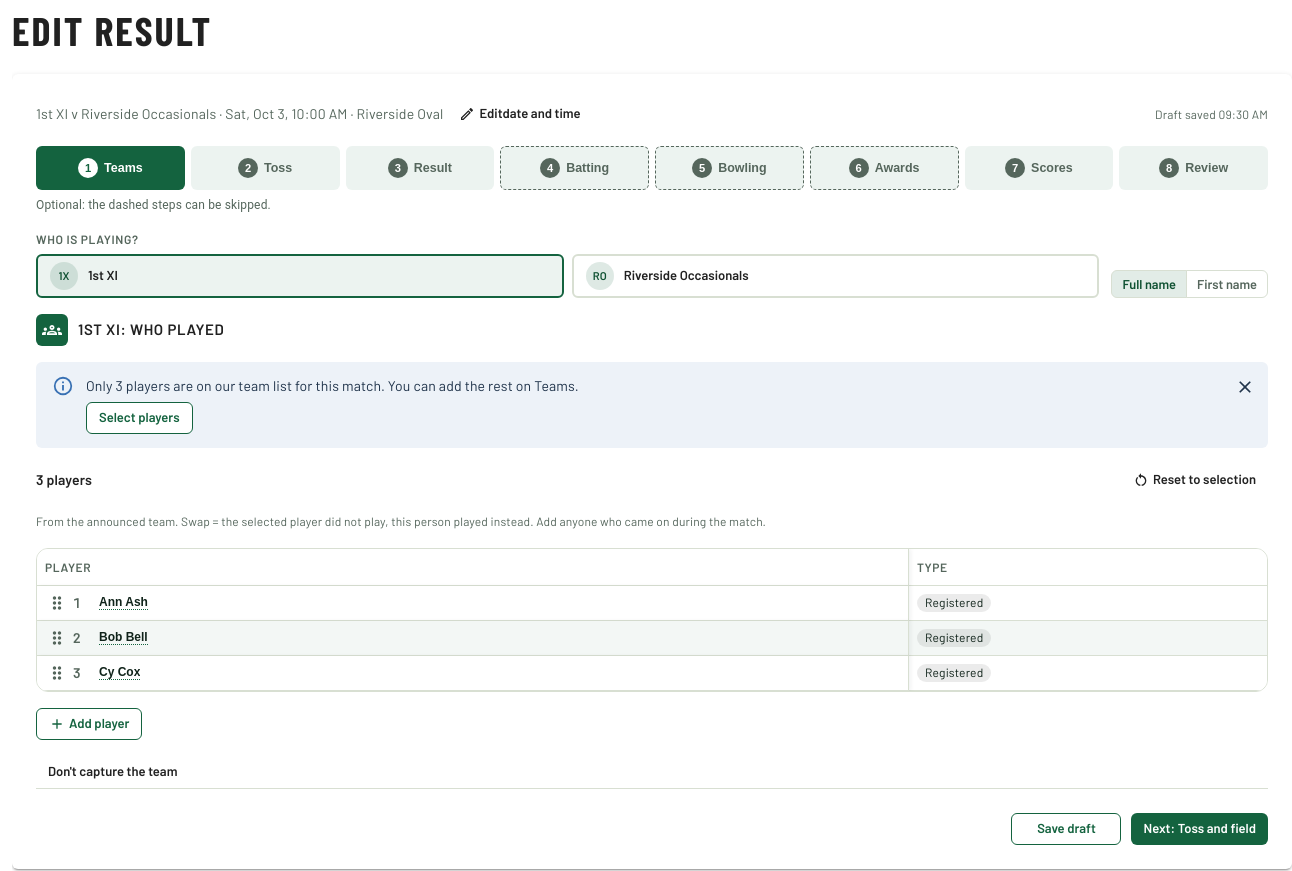
it: Review step › publishes without any tick when the only issue is the info line
expect the heading "Edit result" is shown: met, box [12,6,212,54]
Click the button "8 Review": point(1194, 168) [1119,146,1268,190]
(page scrolled)
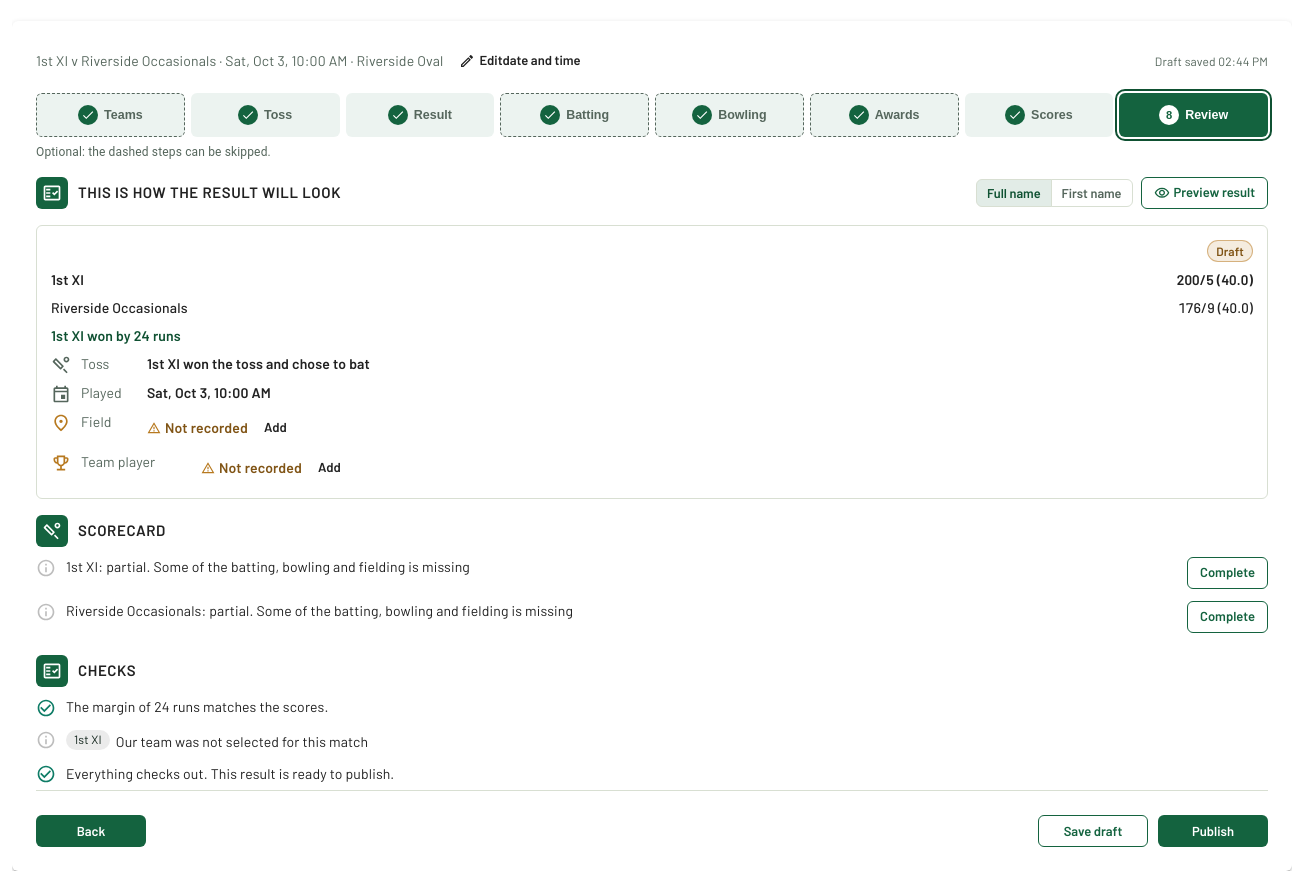
expect the button "Publish" is enabled: met, box [1158,815,1268,847]
expect the text "Our team was not selected for this match" is shown: met, box [116,733,368,750]
